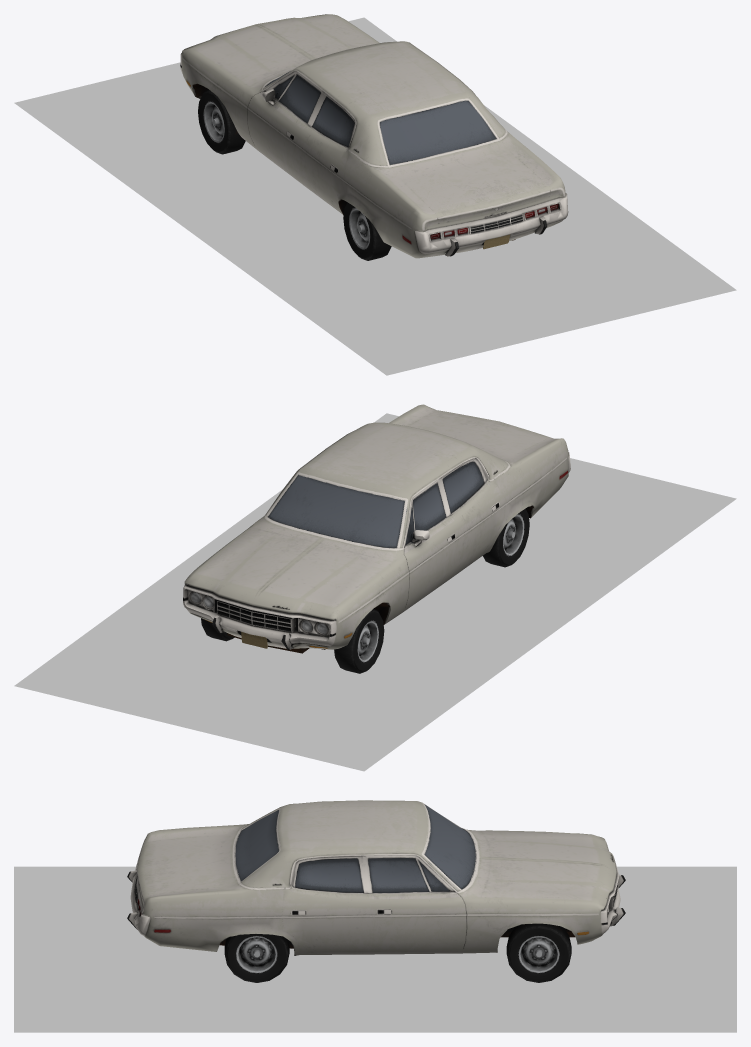
Rendered from matador.FBX.
3 renders of one model, top to bottom at view 1: azimuth 30°, elevation 25°; view 2: azimuth 150°, elevation 25°; view 3: azimuth 270°, elevation 25°, orthographic. The views are drawn at different scales.
Parts seen in each view (by area): view 1: Plane001, Object002; view 2: Plane001, Object002; view 3: Plane001, Object002.
Part boxes in pixels (<box>): Plane001: <box>14,17,736,375</box>; Object002: <box>180,14,568,260</box>; Plane001: <box>14,413,736,771</box>; Object002: <box>183,404,570,673</box>; Plane001: <box>14,866,736,1032</box>; Object002: <box>127,800,625,982</box>.
Bounding box in the file's own units: 479 × 172 × 882.
